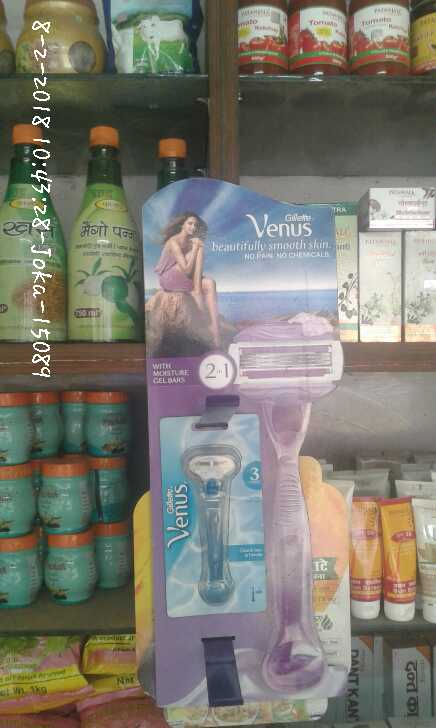venus: (160, 410, 271, 622)
